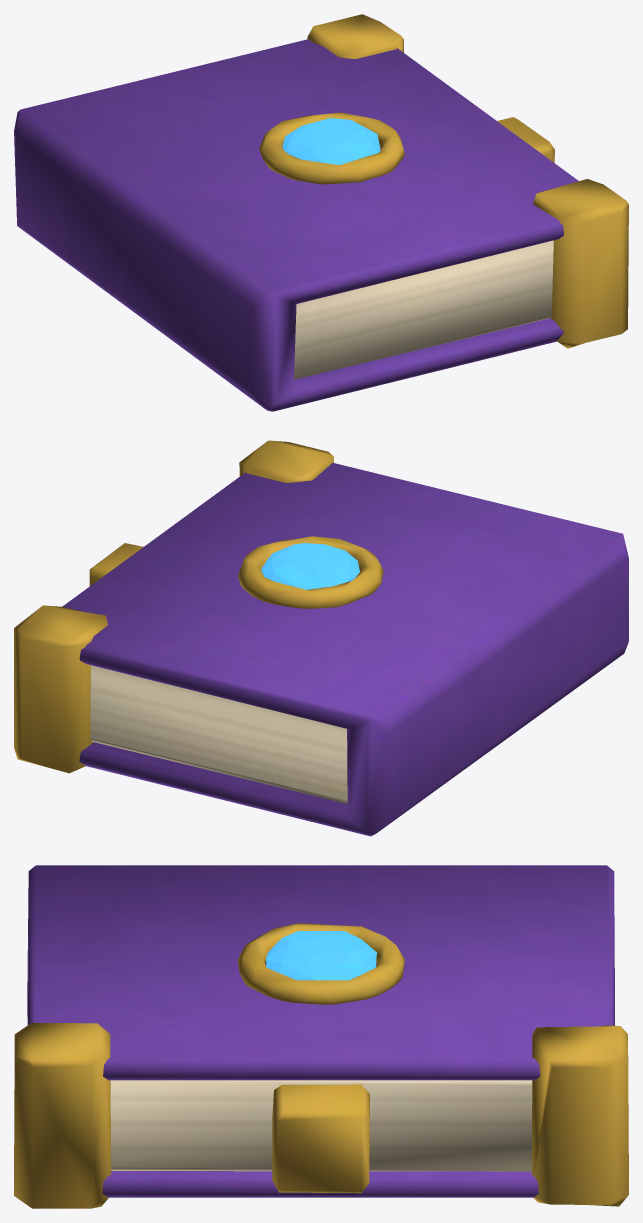
File: tome.glb
3 renders of one model, top to bottom at view 1: azimuth 30°, elevation 25°; view 2: azimuth 150°, elevation 25°; view 3: azimuth 270°, elevation 25°, orthographic. The views are drawn at different scales.
Visible parts, largest first — view 1: cover, gem; view 2: cover, gem; view 3: cover, gem.
Boxes of the visible parts, x1=… form: cover: x1=14, y1=14, x2=628, y2=411; gem: x1=282, y1=118, x2=380, y2=164; cover: x1=14, y1=440, x2=628, y2=836; gem: x1=261, y1=543, x2=359, y2=589; cover: x1=14, y1=865, x2=628, y2=1208; gem: x1=266, y1=931, x2=376, y2=980.
Size of the model in its own units: 0.273 by 0.0983 by 0.3137.
2 materials, 2 textured.
